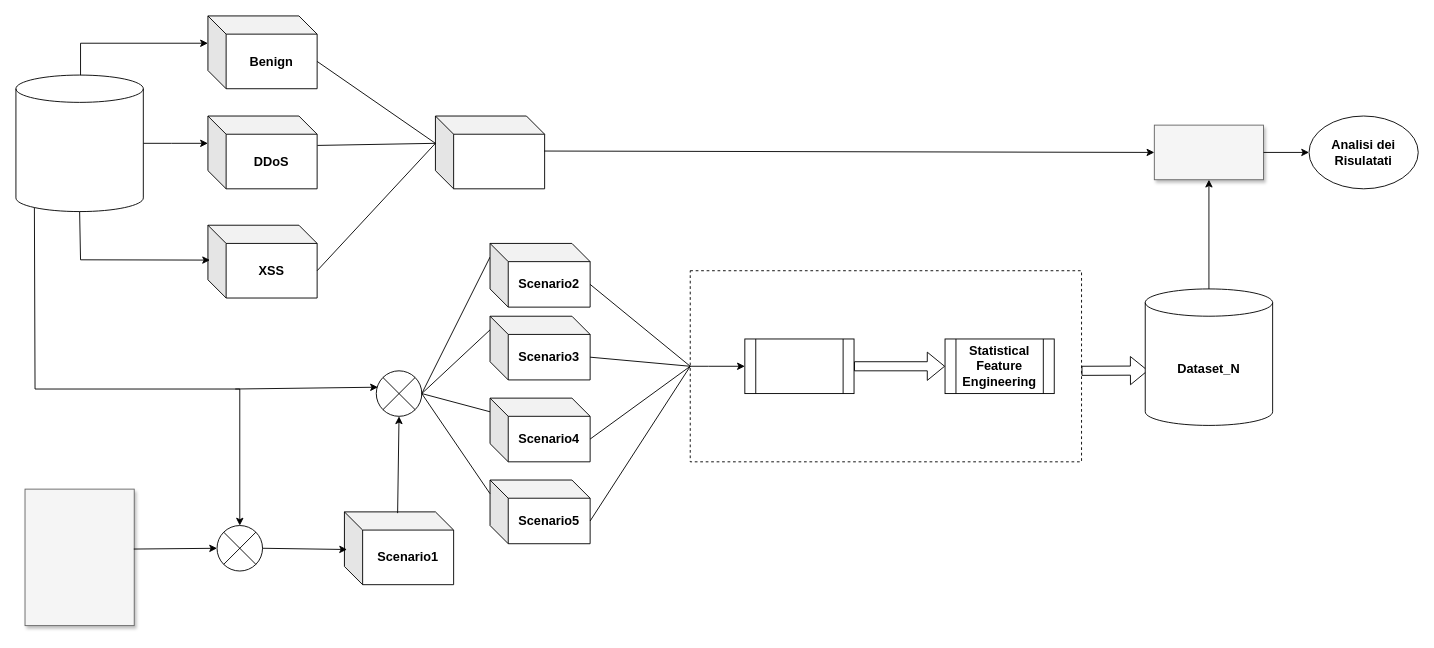
This 1434x648 diagram has some shape labels left out. Each missing label, with the centre of its shape:
"DDoShield IoT" belongs at (x=80, y=558).
"Feature Extraction" belongs at (x=799, y=366).
"TestSet" belongs at (x=490, y=152).
"TON_IoT Dataset" belongs at (x=79, y=143).
"Training & Test" belongs at (x=1209, y=153).
